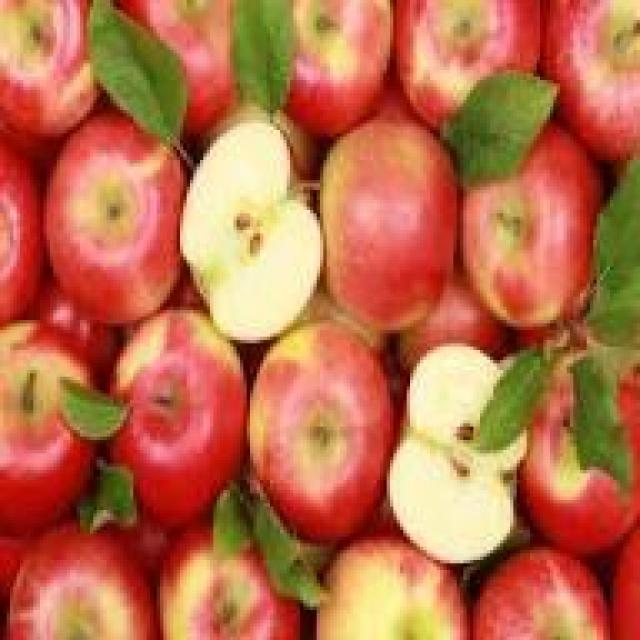apple: (183, 117, 330, 343), (457, 106, 603, 326), (390, 330, 527, 560), (50, 90, 187, 317), (110, 300, 240, 503), (250, 324, 387, 514), (317, 130, 460, 303), (517, 347, 633, 530), (3, 323, 97, 517), (163, 516, 310, 636), (3, 523, 157, 637), (253, 3, 387, 127), (316, 526, 466, 636), (397, 7, 543, 116), (476, 546, 610, 640)
